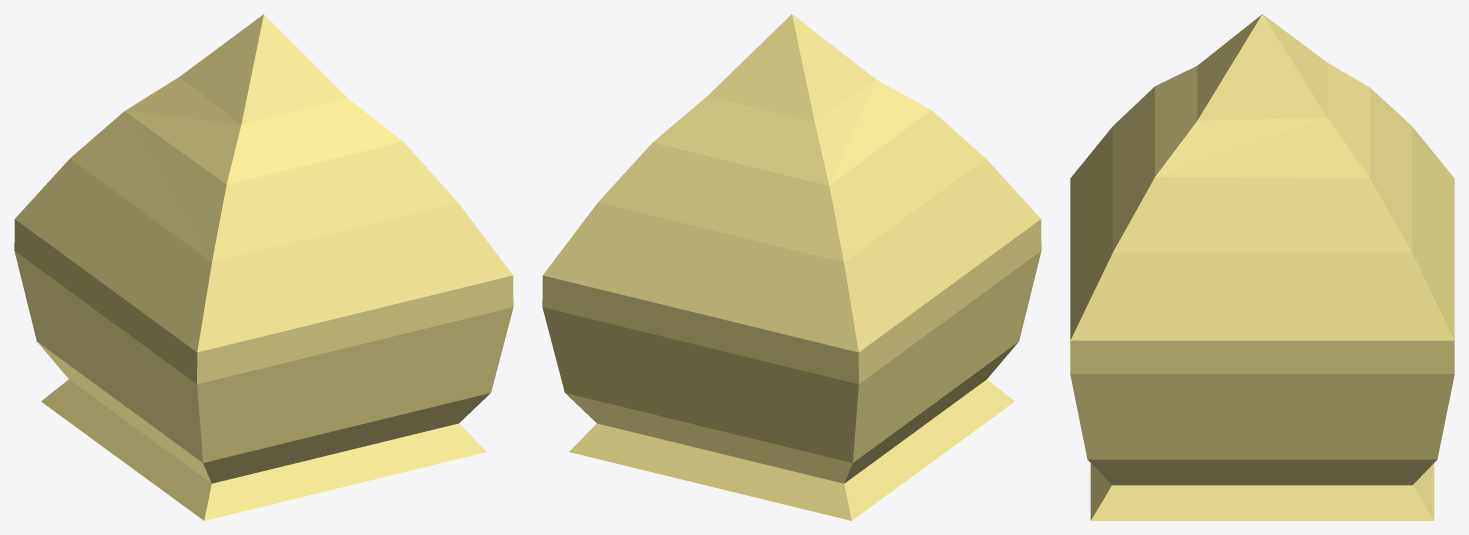
File: tower_roof.FBX
3 views of the same model, side by side, from view 1: azimuth 30°, elevation 25°; view 2: azimuth 150°, elevation 25°; view 3: azimuth 270°, elevation 25° (orthographic). The views are drawn at different scales.
Parts seen in each view (by area): view 1: tower_roof; view 2: tower_roof; view 3: tower_roof.
Part boxes in pixels (box(x1,y1,x2,y2)): tower_roof: box(14, 14, 513, 520); tower_roof: box(542, 14, 1041, 520); tower_roof: box(1070, 14, 1454, 520).
Size of the model in its own units: 11.19 by 13.95 by 11.19.
